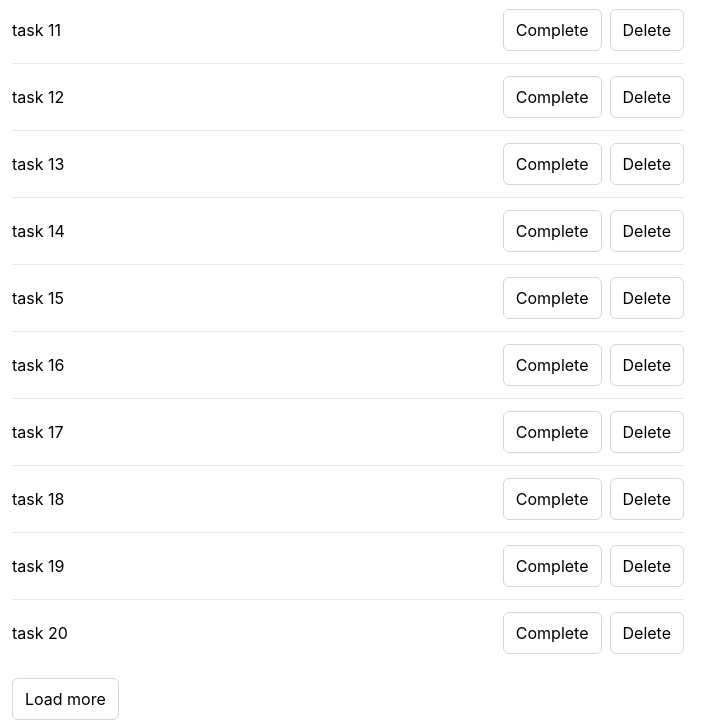
Test: TodosScreen › focuses the heading when the last loaded page empties and stops refetching
(page scrolled)
Click the button "Load more".
click(65, 699)  # box [12,678,119,719]
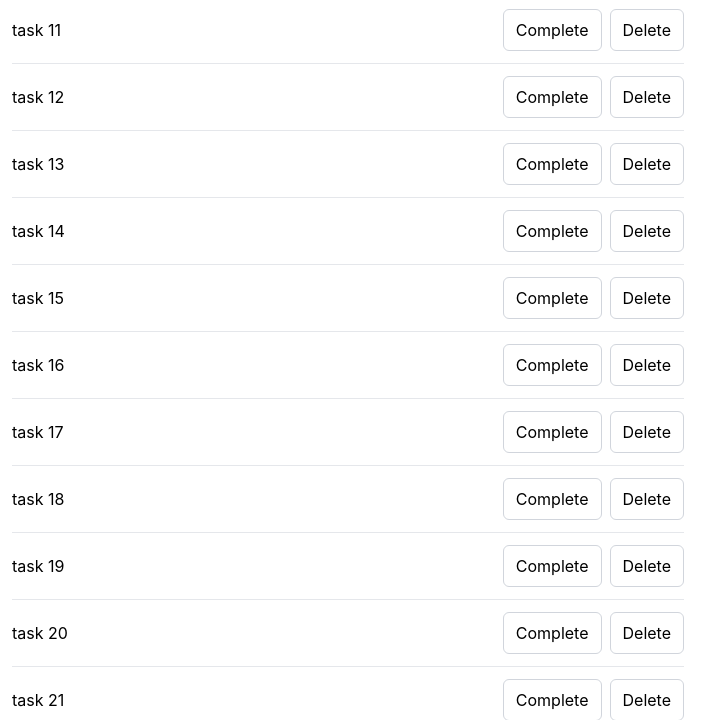
Click the button with aria-label "Delete task 21".
click(647, 700)  # box [610,679,684,719]
(page scrolled)
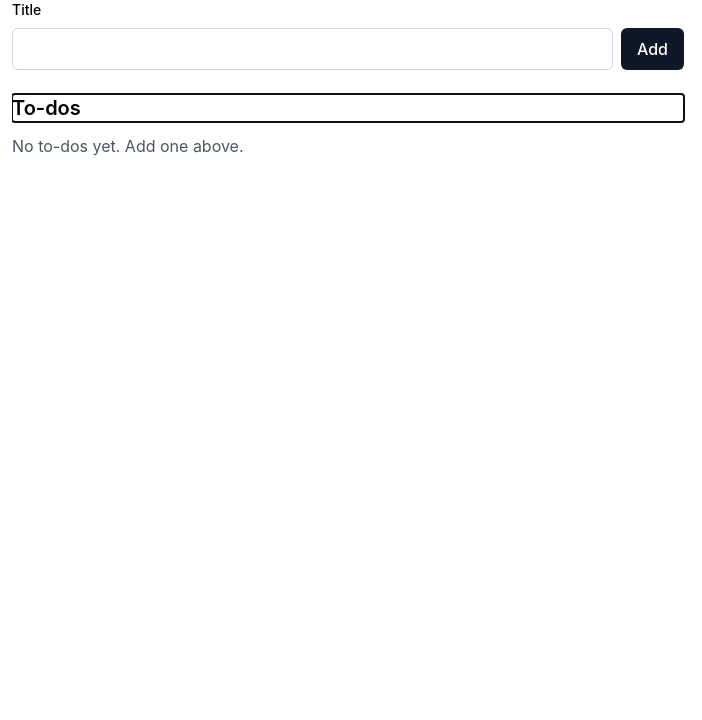
expect the text "No to-dos yet. Add one above." is shown: met, box [12,136,244,156]
expect no list items are shown: met
